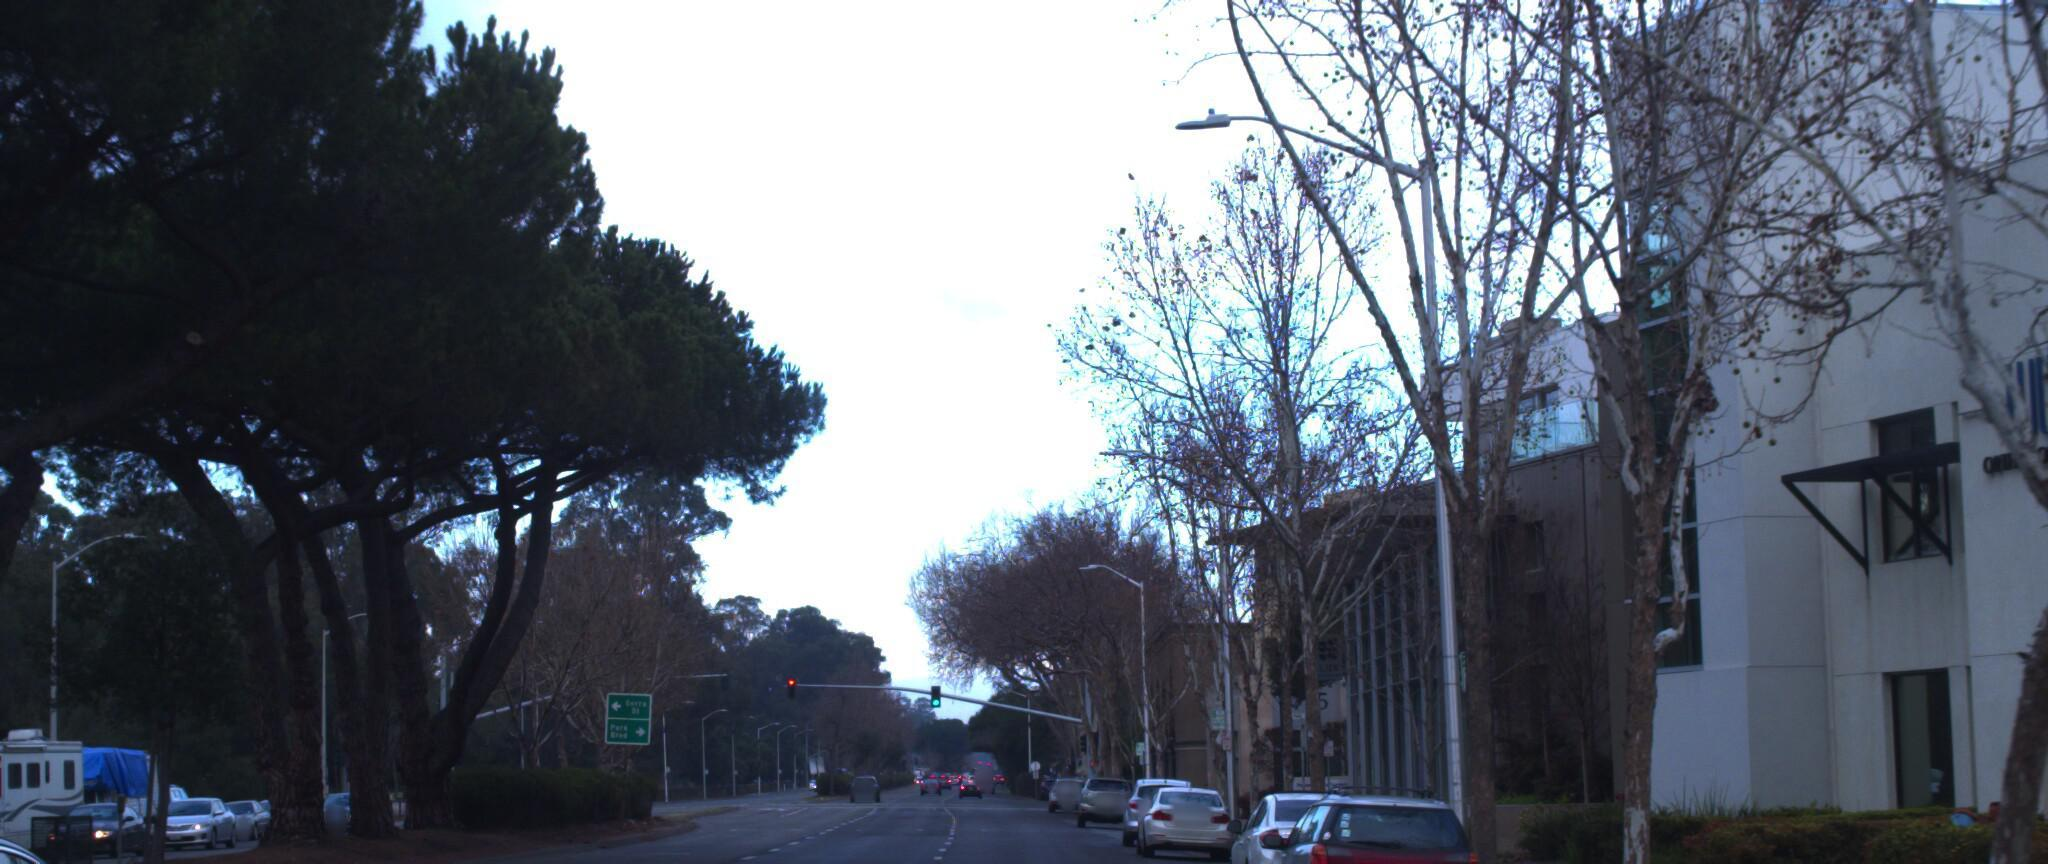car: (1819, 493, 2048, 864), (1258, 773, 1505, 864), (1225, 778, 1413, 864), (0, 804, 268, 864), (1123, 771, 1234, 857)
other_vehicle: (0, 703, 99, 864)
